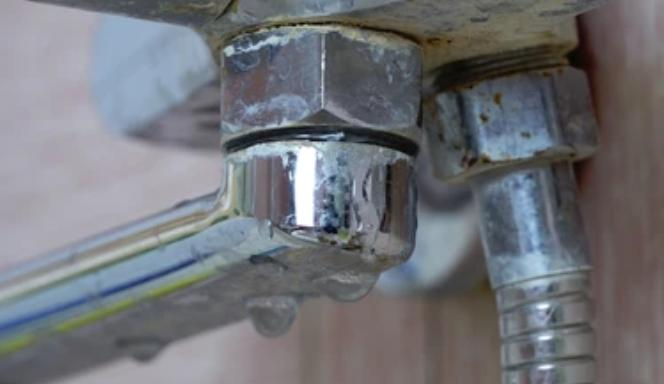water drop: (243, 294, 299, 338), (312, 269, 383, 302), (119, 334, 166, 363)
